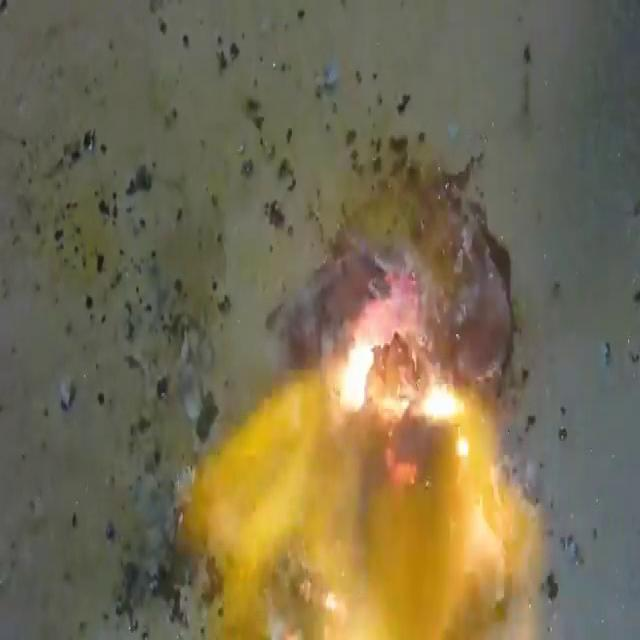Fire: (175, 262, 545, 636)
